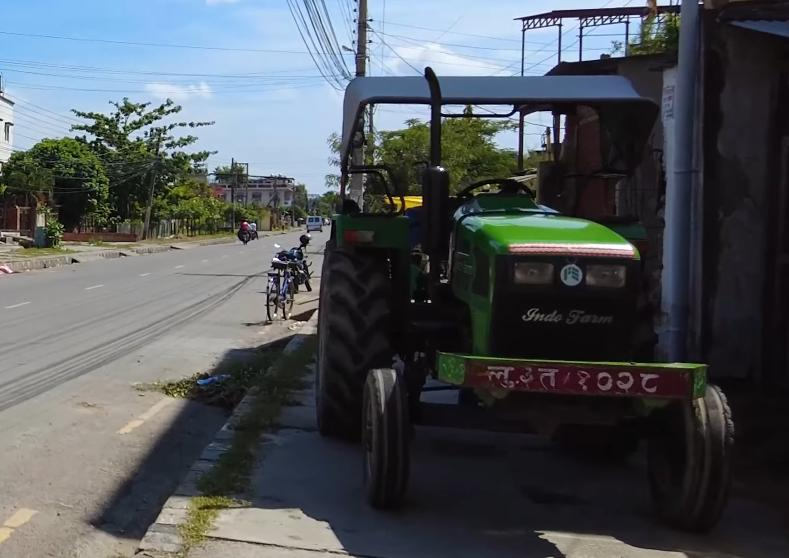bike: (272, 236, 317, 292)
tractor: (322, 60, 743, 532)
